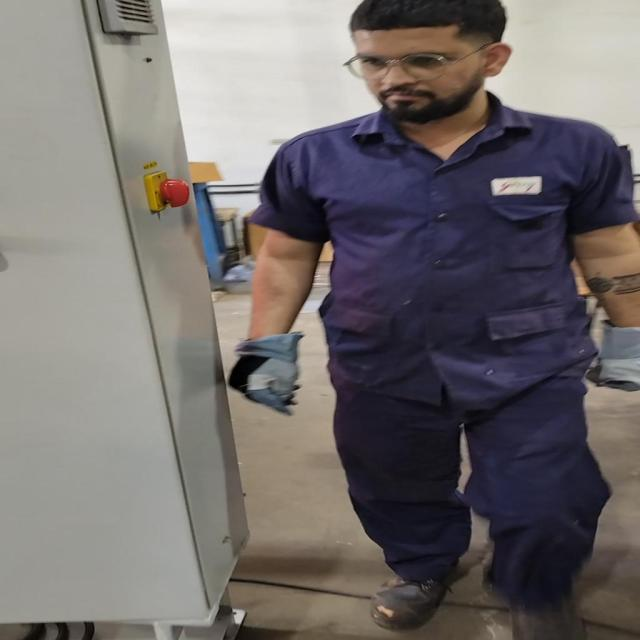Gloves-Detection: (218, 325, 301, 407), (592, 327, 640, 389)
